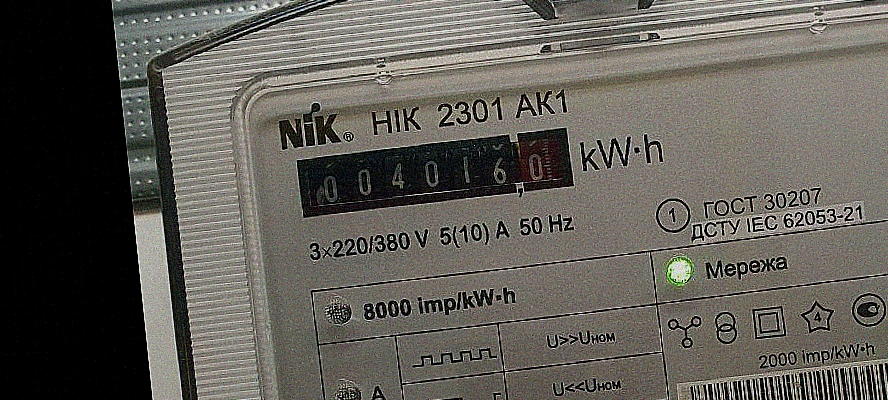0: (419, 154, 443, 191), (318, 170, 342, 205), (352, 163, 375, 199), (523, 149, 546, 183)
1: (456, 150, 475, 186)
4: (386, 157, 407, 193)
6: (487, 152, 509, 185)
screen: (287, 119, 583, 226)
